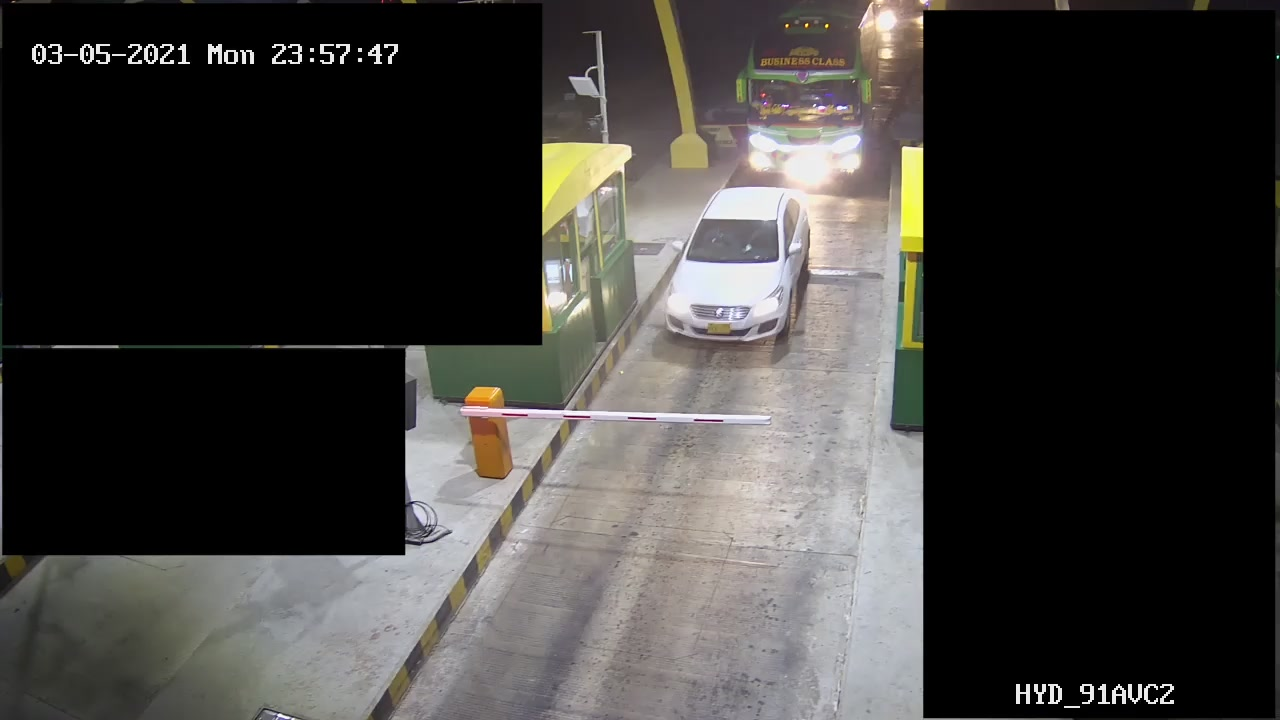F1: (665, 183, 815, 349)
